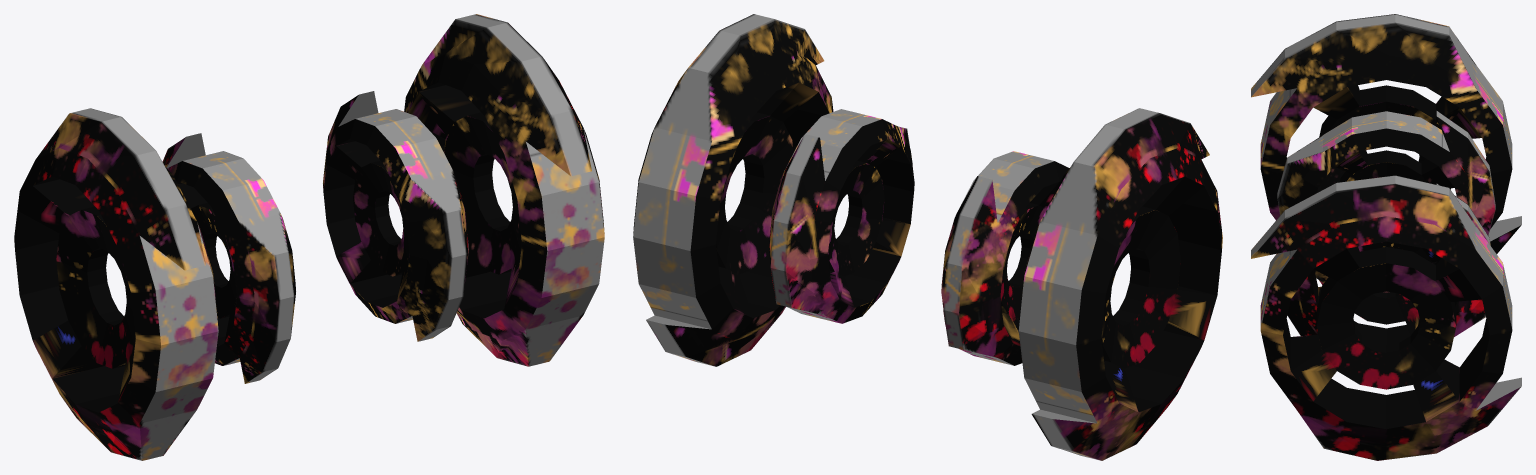
Rendered from carhead.fbx.
The picture shows the model from 3 angles, left to right: view 1: azimuth 30°, elevation 25°; view 2: azimuth 150°, elevation 25°; view 3: azimuth 270°, elevation 25°; orthographic projection. The views are drawn at different scales.
Parts seen in each view (by area): view 1: Cylinder.003; view 2: Cylinder.003; view 3: Cylinder.003.
Boxes of the visible parts, box(x1,y1,x2,y2) form: Cylinder.003: box(14, 14, 604, 460); Cylinder.003: box(633, 14, 1222, 460); Cylinder.003: box(1251, 14, 1521, 460).
Bounding box in the file's own units: 263 × 174 × 154.
